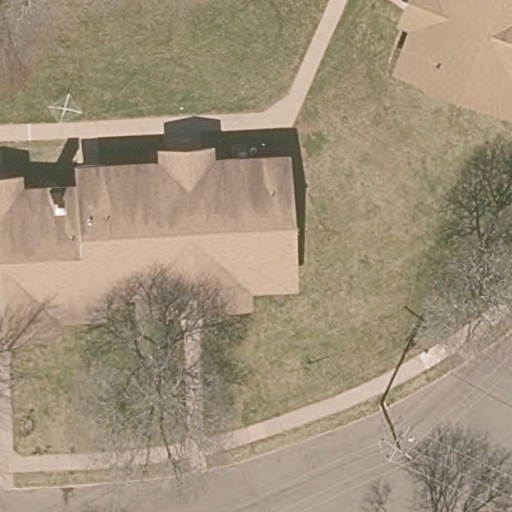DT: (378, 401, 415, 462)
